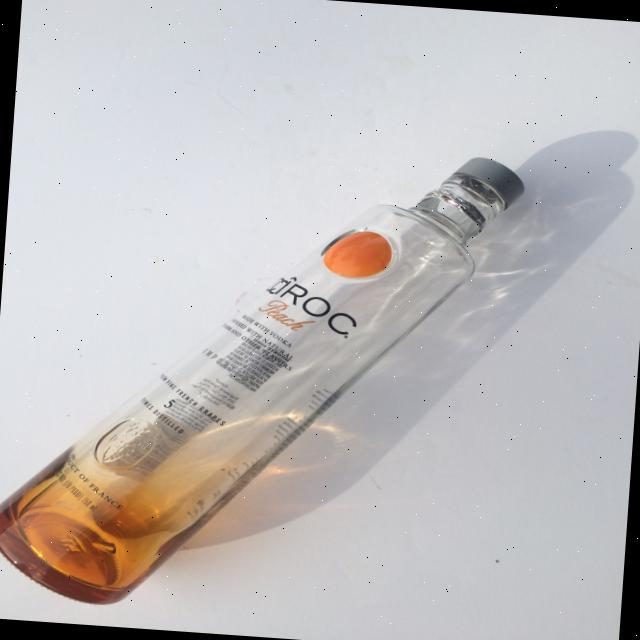glass: (0, 122, 527, 632)
